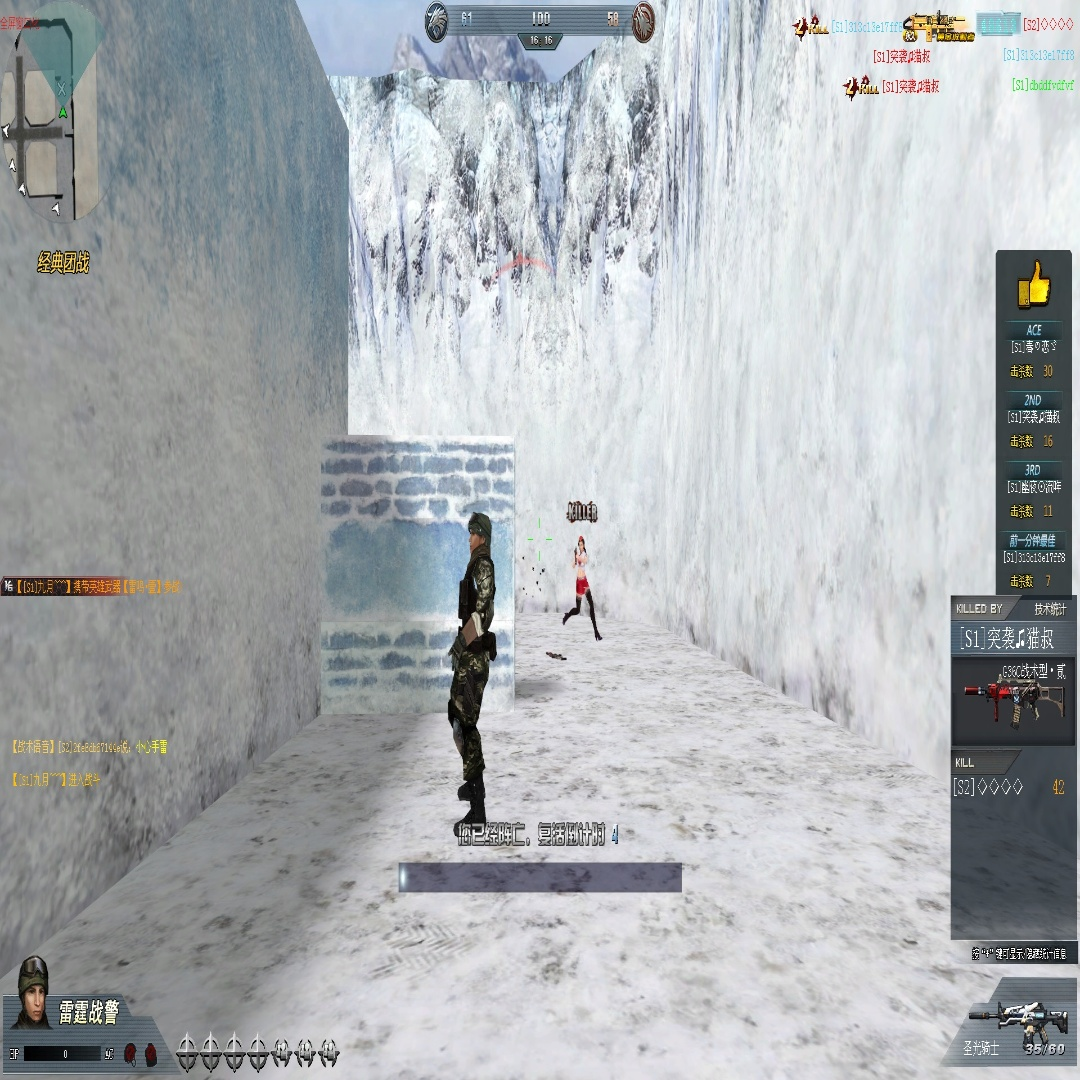t: (562, 531, 601, 639)
